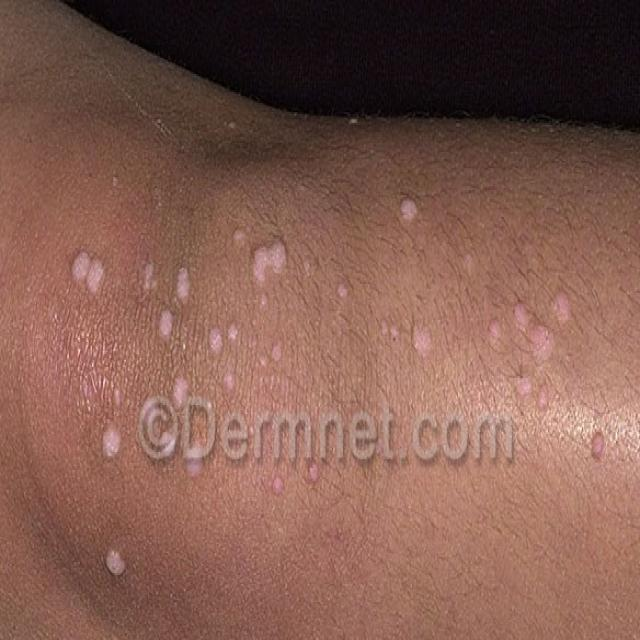Warts: (45, 110, 640, 611)
